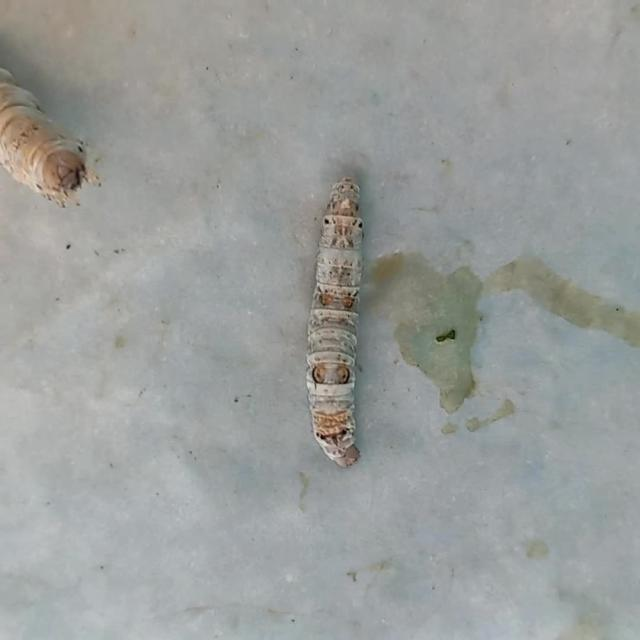Grasserie: (289, 161, 392, 480)
